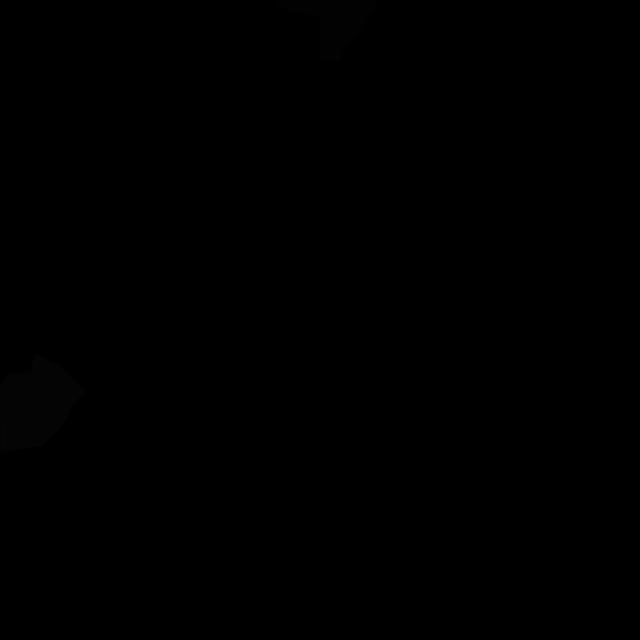cardboard: (276, 0, 378, 60)
soft_plastic: (0, 353, 86, 453)
